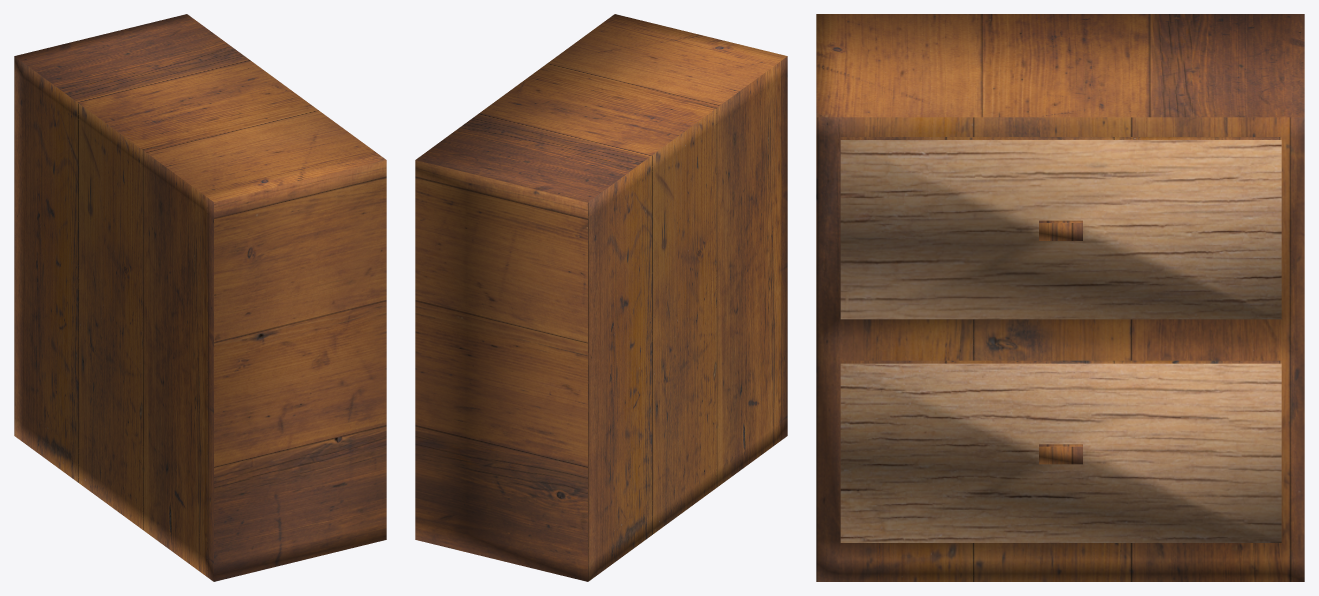
File: cabinet_01.glb
The picture shows the model from 3 angles, left to right: view 1: azimuth 30°, elevation 25°; view 2: azimuth 150°, elevation 25°; view 3: azimuth 270°, elevation 25°; orthographic projection. The views are drawn at different scales.
Parts seen in each view (by area): view 1: Cube; view 2: Cube; view 3: Cube.
Boxes of the visible parts, <box> form: Cube: <box>14,14,386,581</box>; Cube: <box>415,14,787,581</box>; Cube: <box>816,14,1304,581</box>.
Size of the model in its own units: 2.1 by 4.2 by 4.
2 materials, 2 textured.
